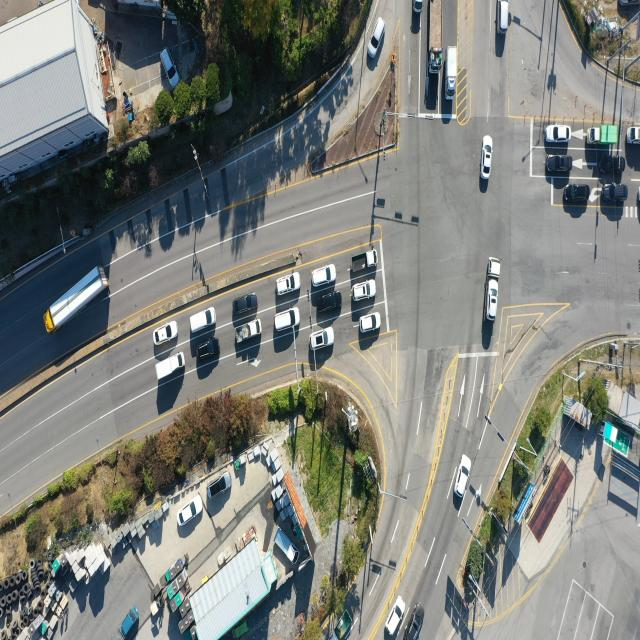car: (159, 47, 181, 88), (180, 494, 206, 526), (454, 454, 471, 498), (368, 17, 386, 58), (189, 307, 216, 334), (387, 597, 405, 637), (407, 602, 425, 640), (209, 474, 233, 501), (274, 307, 301, 330), (196, 340, 222, 363), (310, 328, 334, 352), (312, 265, 336, 288), (156, 320, 179, 344), (277, 274, 302, 296), (318, 293, 342, 315), (234, 292, 258, 314), (351, 281, 375, 302), (548, 153, 573, 172), (546, 126, 572, 144), (358, 313, 381, 333), (604, 184, 629, 202), (568, 184, 592, 202), (602, 155, 626, 173), (483, 137, 493, 180), (498, 0, 509, 31)
medium_truck: (42, 266, 108, 336), (427, 0, 443, 70), (486, 258, 501, 322)
small_truck: (273, 526, 301, 565), (154, 351, 184, 382), (588, 125, 620, 147), (444, 46, 457, 100), (233, 322, 260, 346), (351, 249, 377, 273), (120, 608, 138, 640), (627, 127, 640, 145), (412, 0, 424, 17)
